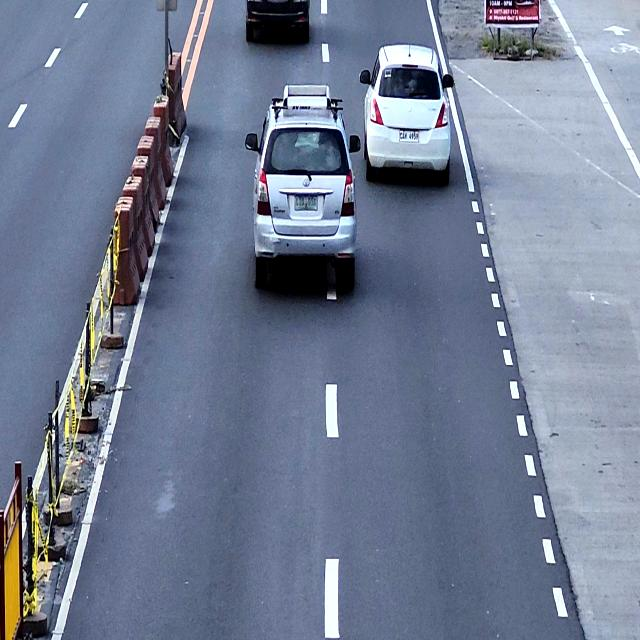Car: (244, 86, 361, 290), (359, 42, 454, 183), (245, 0, 310, 43)
License-Plate: (294, 193, 318, 212), (398, 128, 420, 142)
